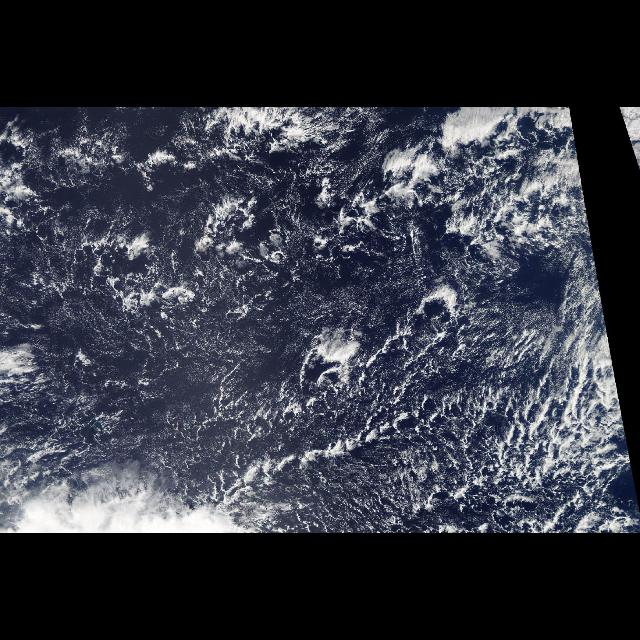Fish: (205, 350, 457, 514)
Flower: (84, 129, 576, 319)
Gravel: (8, 152, 614, 528)
